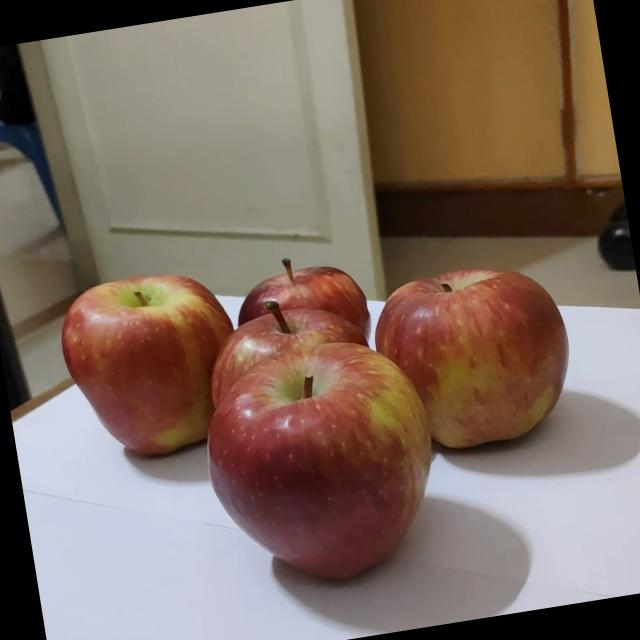apple: (162, 290, 438, 574), (360, 220, 582, 440), (40, 230, 248, 453), (176, 250, 368, 389), (221, 216, 377, 343)
